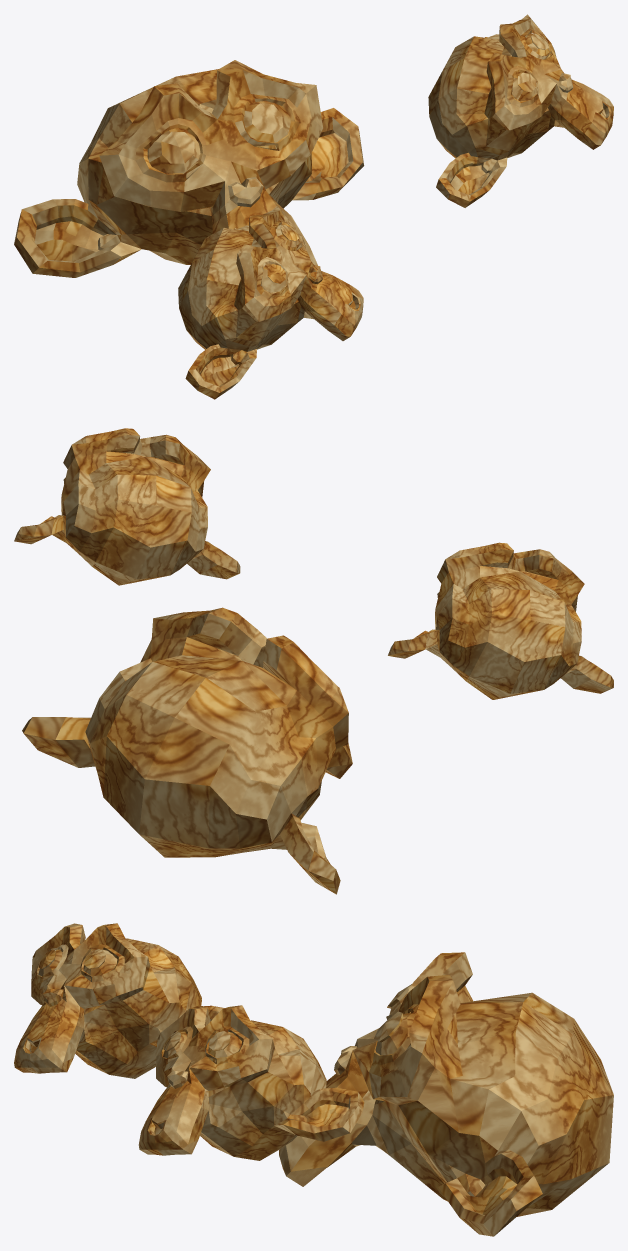
3 views of the same model, one above another, from view 1: azimuth 30°, elevation 25°; view 2: azimuth 150°, elevation 25°; view 3: azimuth 270°, elevation 25° (orthographic). The views are drawn at different scales.
Parts seen in each view (by area): view 1: Suzanne, Suzanne.001, Suzanne.002; view 2: Suzanne, Suzanne.001, Suzanne.002; view 3: Suzanne, Suzanne.002, Suzanne.001.
Boxes of the visible parts, x1=… form: Suzanne: x1=14, y1=60, x2=364, y2=277; Suzanne.001: x1=178, y1=206, x2=363, y2=399; Suzanne.002: x1=428, y1=14, x2=613, y2=207; Suzanne: x1=22, y1=607, x2=352, y2=894; Suzanne.001: x1=388, y1=542, x2=613, y2=699; Suzanne.002: x1=14, y1=428, x2=240, y2=585; Suzanne: x1=279, y1=952, x2=613, y2=1236; Suzanne.002: x1=138, y1=1005, x2=364, y2=1160; Suzanne.001: x1=14, y1=923, x2=224, y2=1078.
Size of what is drawn, in the model's own units: 7.45 by 4.12 by 7.19.
Materials: 1 (1 with a texture image).
